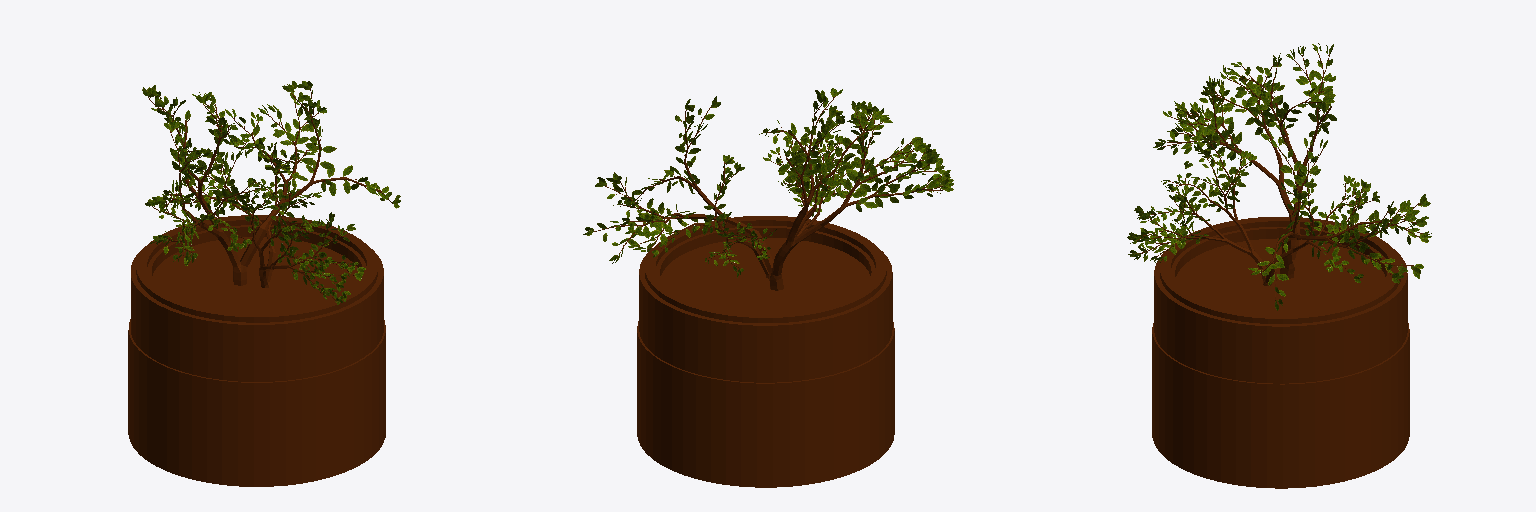
3 views of the same model, side by side, from view 1: azimuth 30°, elevation 25°; view 2: azimuth 150°, elevation 25°; view 3: azimuth 270°, elevation 25° (orthographic).
Parts seen in each view (by area): view 1: potted_plant.001; view 2: potted_plant.001; view 3: potted_plant.001.
Boxes of the visible parts, <box> form: potted_plant.001: <box>128,81,400,486</box>; potted_plant.001: <box>583,88,953,487</box>; potted_plant.001: <box>1127,43,1431,488</box>.
Size of the model in its own units: 1.53 by 1.77 by 1.38.
4 materials, 1 textured.